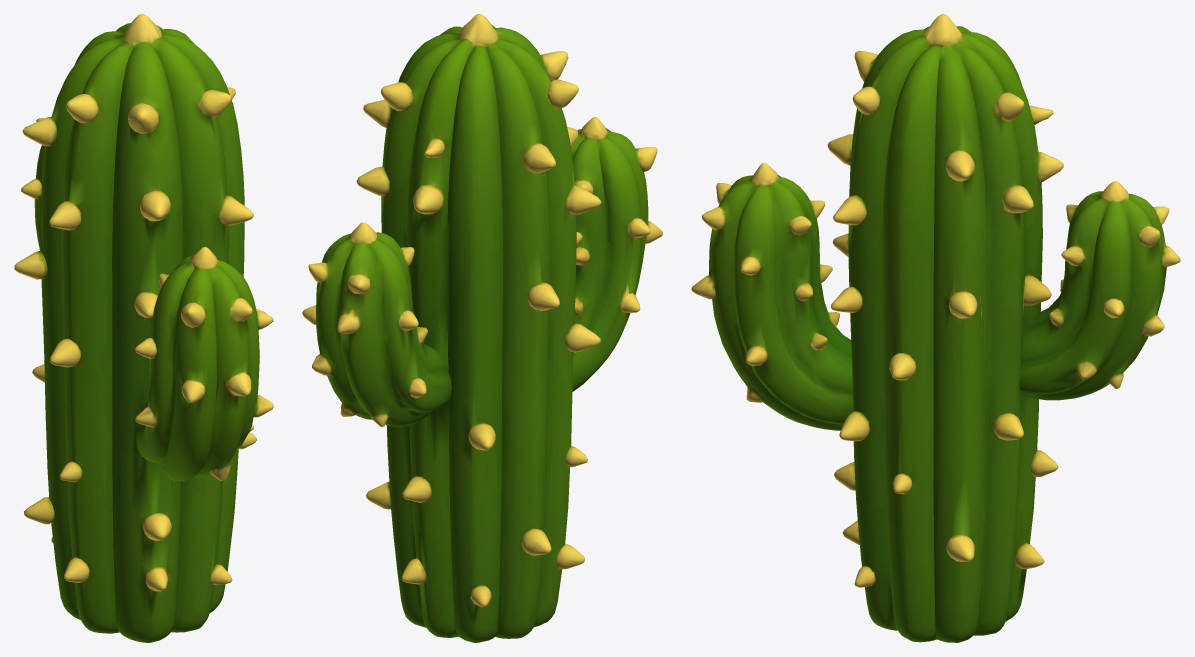
The model's file is cactus_saguaro.glb.
The picture shows the model from 3 angles, left to right: view 1: azimuth 30°, elevation 25°; view 2: azimuth 150°, elevation 25°; view 3: azimuth 270°, elevation 25°; orthographic projection.
Visible parts, largest first — view 1: tripo_node_f35b8dcd-b9dd-4f7c-bffa-781faa9ebcfa; view 2: tripo_node_f35b8dcd-b9dd-4f7c-bffa-781faa9ebcfa; view 3: tripo_node_f35b8dcd-b9dd-4f7c-bffa-781faa9ebcfa.
Boxes of the visible parts, x1,y1,x2,y2 form: tripo_node_f35b8dcd-b9dd-4f7c-bffa-781faa9ebcfa: (14,14,273,642); tripo_node_f35b8dcd-b9dd-4f7c-bffa-781faa9ebcfa: (302,14,662,642); tripo_node_f35b8dcd-b9dd-4f7c-bffa-781faa9ebcfa: (691,14,1180,642).
Size of the model in its own units: 0.411 by 1.1 by 0.8084.
1 material, 1 textured.
